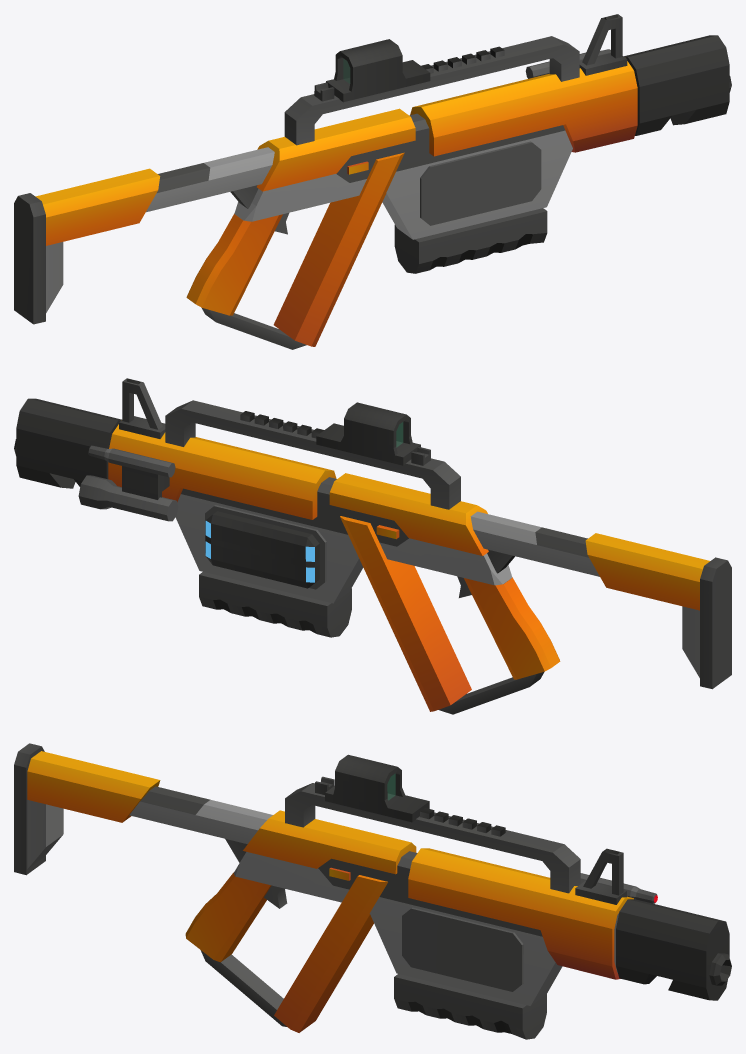
3 views of the same model, one above another, from view 1: azimuth 30°, elevation 25°; view 2: azimuth 150°, elevation 25°; view 3: azimuth 330°, elevation 25° (orthographic).
Parts seen in each view (by area): view 1: AR_mesh, AR_Silencer_mesh, Holo_mesh, ARIronSights_mesh; view 2: AR_mesh, AR_Silencer_mesh, Mag_M_mesh, LargeLaserCombo_mesh, Holo_mesh, ARIronSights_mesh; view 3: AR_mesh, AR_Silencer_mesh, Holo_mesh, ARIronSights_mesh, LargeLaserCombo_mesh.
Boxes of the visible parts, <box> form: AR_mesh: <box>14,36,637,349</box>; AR_Silencer_mesh: <box>624,35,731,135</box>; Holo_mesh: <box>326,39,430,102</box>; ARIronSights_mesh: <box>314,14,627,101</box>; AR_mesh: <box>108,400,731,714</box>; AR_Silencer_mesh: <box>14,398,121,488</box>; Mag_M_mesh: <box>205,511,319,588</box>; LargeLaserCombo_mesh: <box>78,445,178,521</box>; Holo_mesh: <box>316,402,420,465</box>; ARIronSights_mesh: <box>119,378,430,465</box>; AR_mesh: <box>14,743,633,1039</box>; AR_Silencer_mesh: <box>616,899,731,1000</box>; Holo_mesh: <box>325,754,429,822</box>; ARIronSights_mesh: <box>315,776,626,904</box>; LargeLaserCombo_mesh: <box>580,873,657,903</box>.
Size of the model in its own units: 78.45 by 29.73 by 8.36.
3 materials, 1 textured.
